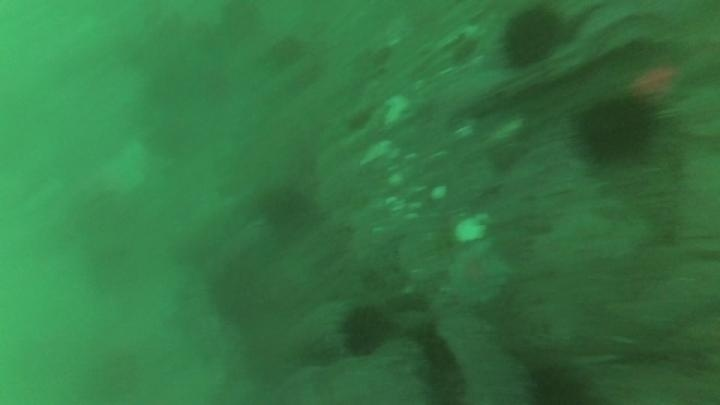echinus: (573, 93, 660, 166), (498, 6, 565, 70), (208, 261, 271, 324), (524, 360, 594, 405), (338, 304, 393, 357), (256, 183, 314, 233), (217, 1, 264, 43), (266, 33, 308, 70)
starfish: (444, 239, 514, 307)
